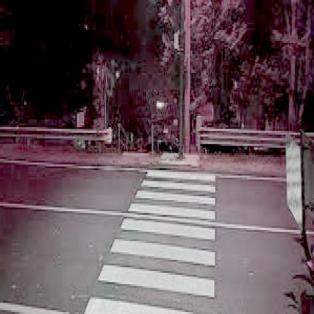Paso de Cebra: (79, 235, 221, 303)
